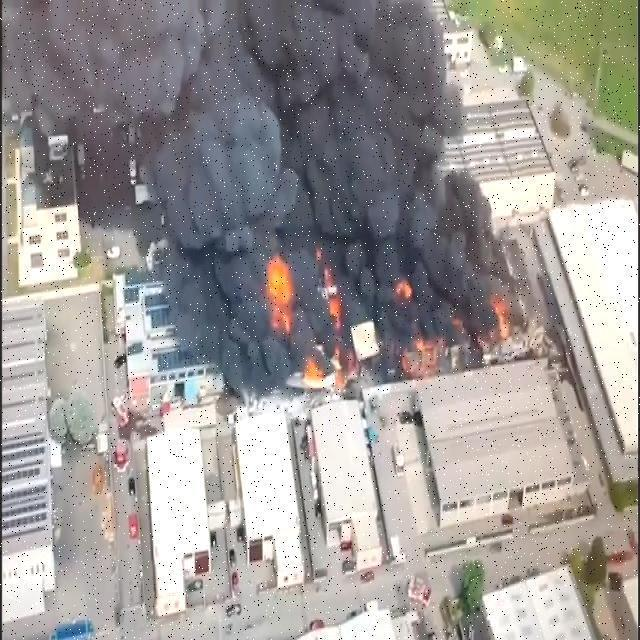smoke: (13, 9, 510, 223)
